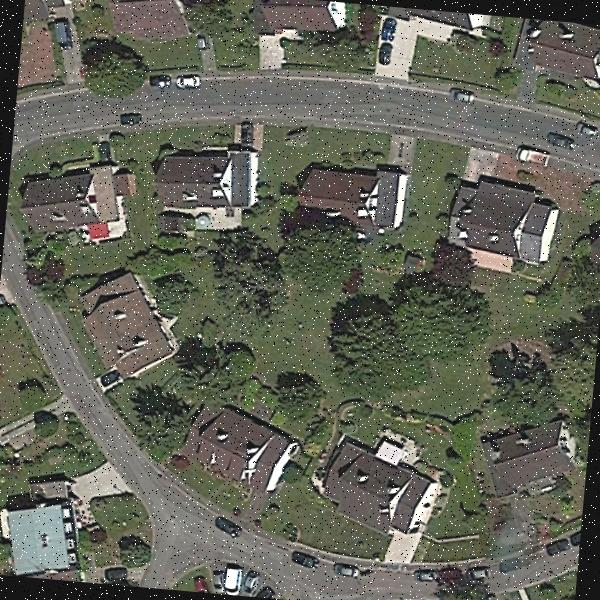Buildings: (322, 448, 442, 534), (444, 178, 559, 266), (0, 480, 80, 582), (84, 272, 154, 386), (152, 137, 256, 210), (194, 412, 284, 494), (22, 153, 106, 235), (301, 157, 405, 222), (518, 18, 600, 83), (495, 425, 576, 486), (101, 0, 192, 40), (258, 0, 348, 35), (22, 0, 67, 34)
